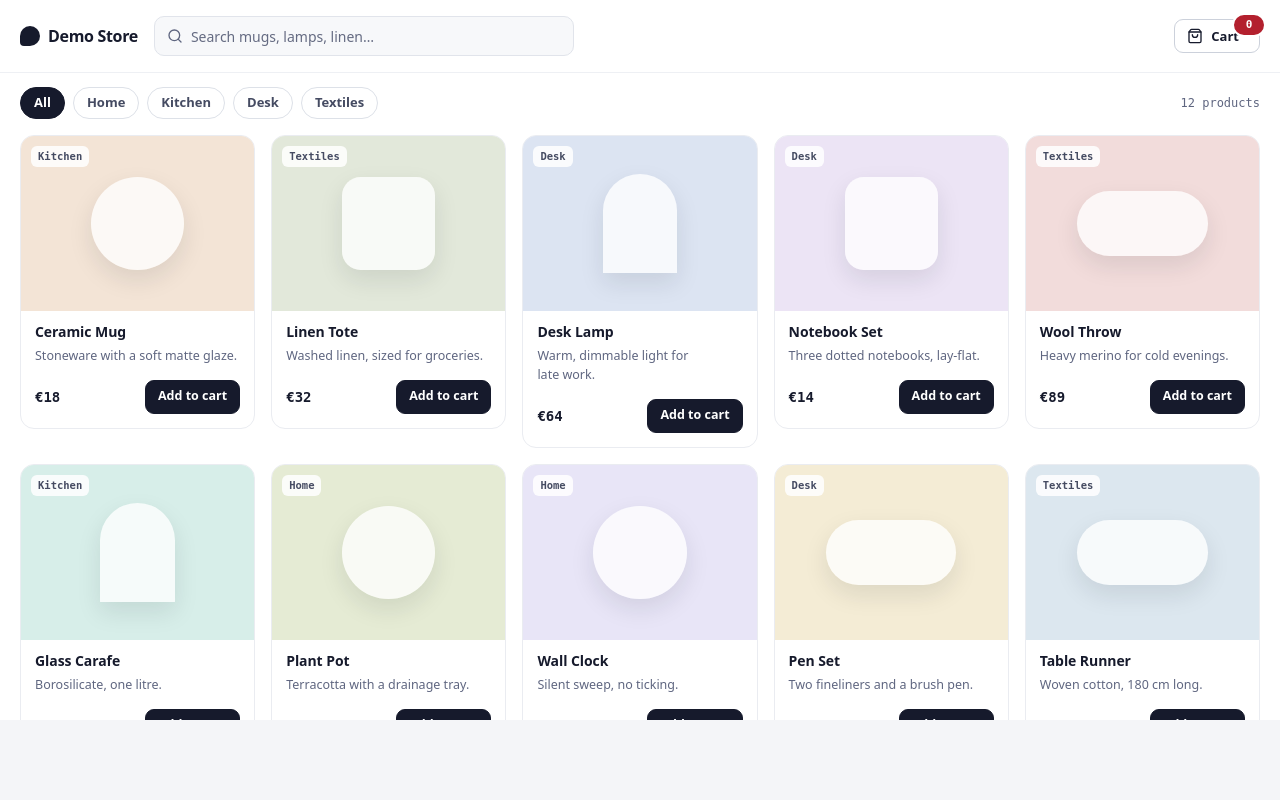
Test: Demo Store › shows a failed add with Retry and an error toast
Click the button with aria-label "Add Desk Lamp to cart" at [695, 416], box [647, 399, 743, 433]
Wait 300 ms
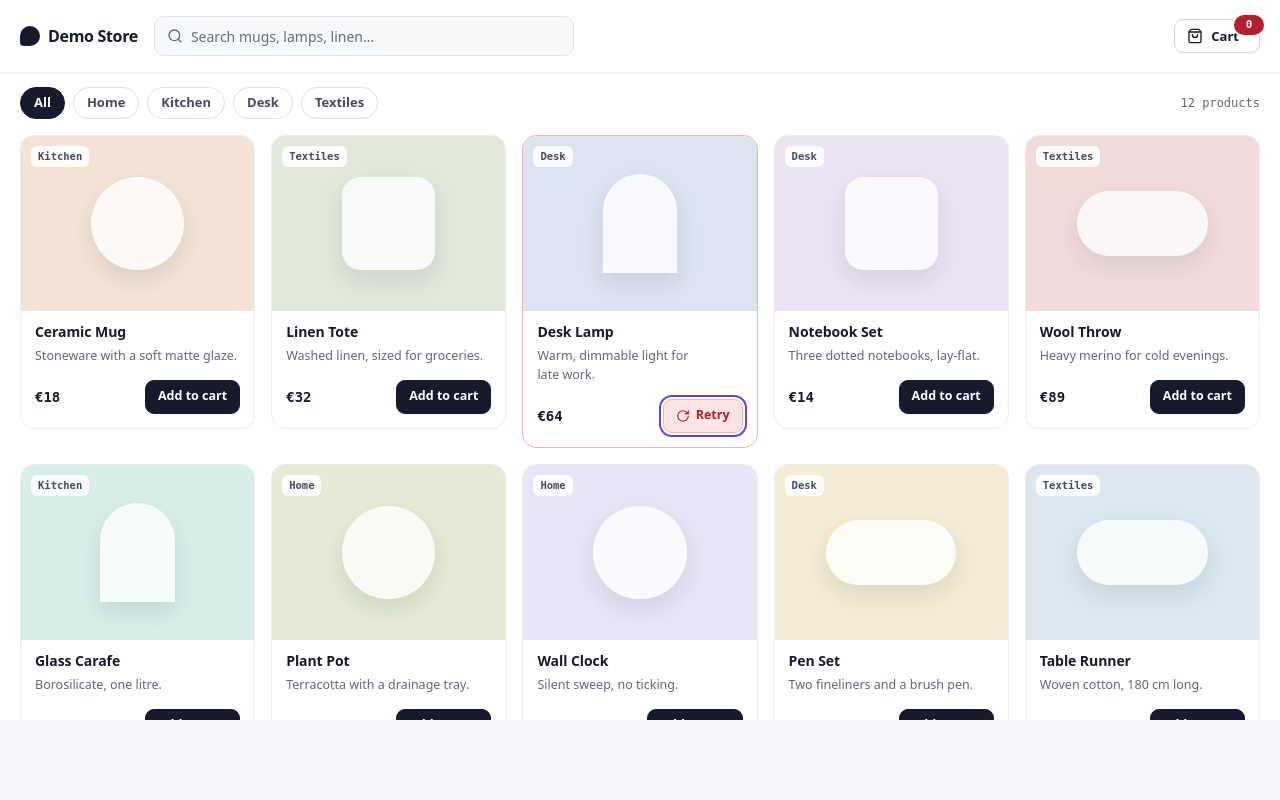
Expected: the button with aria-label "Cart, 0 items" is shown, [1174, 19, 1260, 53]
Expected: the button with aria-label "Retry adding Desk Lamp to cart" is shown, [663, 399, 743, 433]
